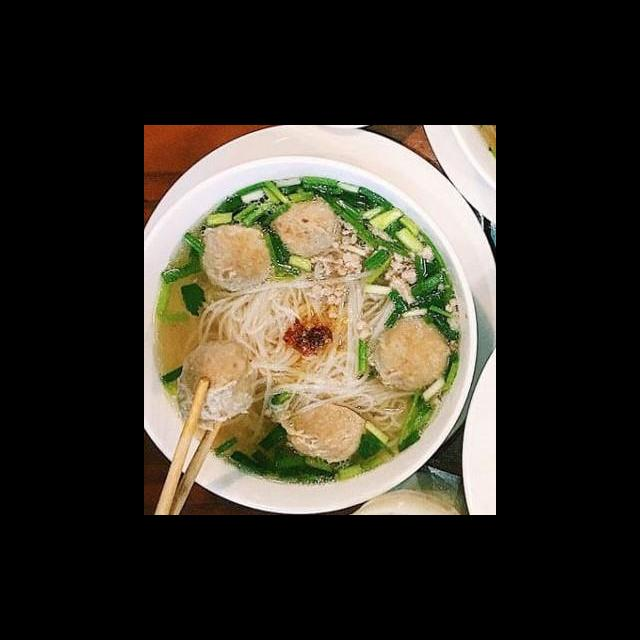banh hu tieu: (195, 257, 418, 442)
hu tieu: (144, 161, 480, 512)
thit bam: (302, 213, 421, 322)
